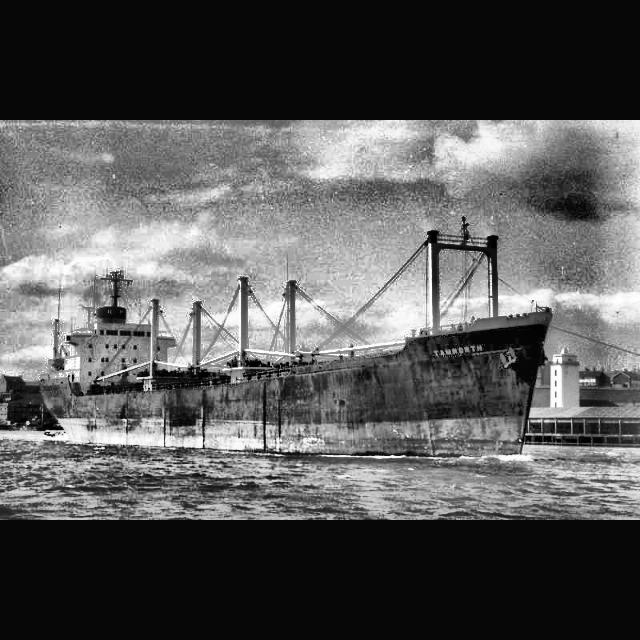bulk_carrier: (36, 218, 556, 464)
